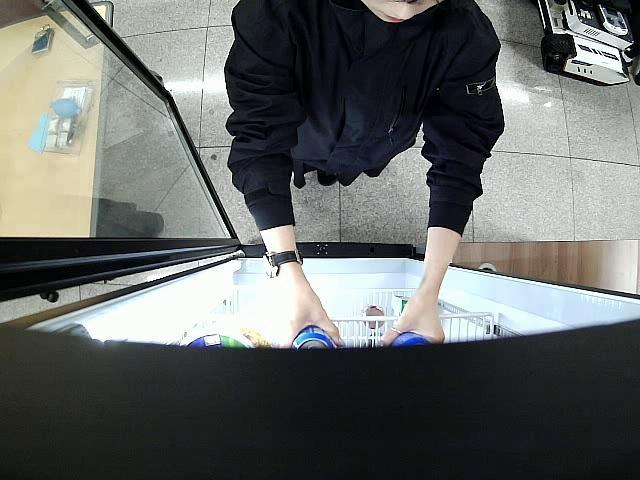13_pocariSweat: (291, 324, 338, 350), (388, 330, 434, 352)
